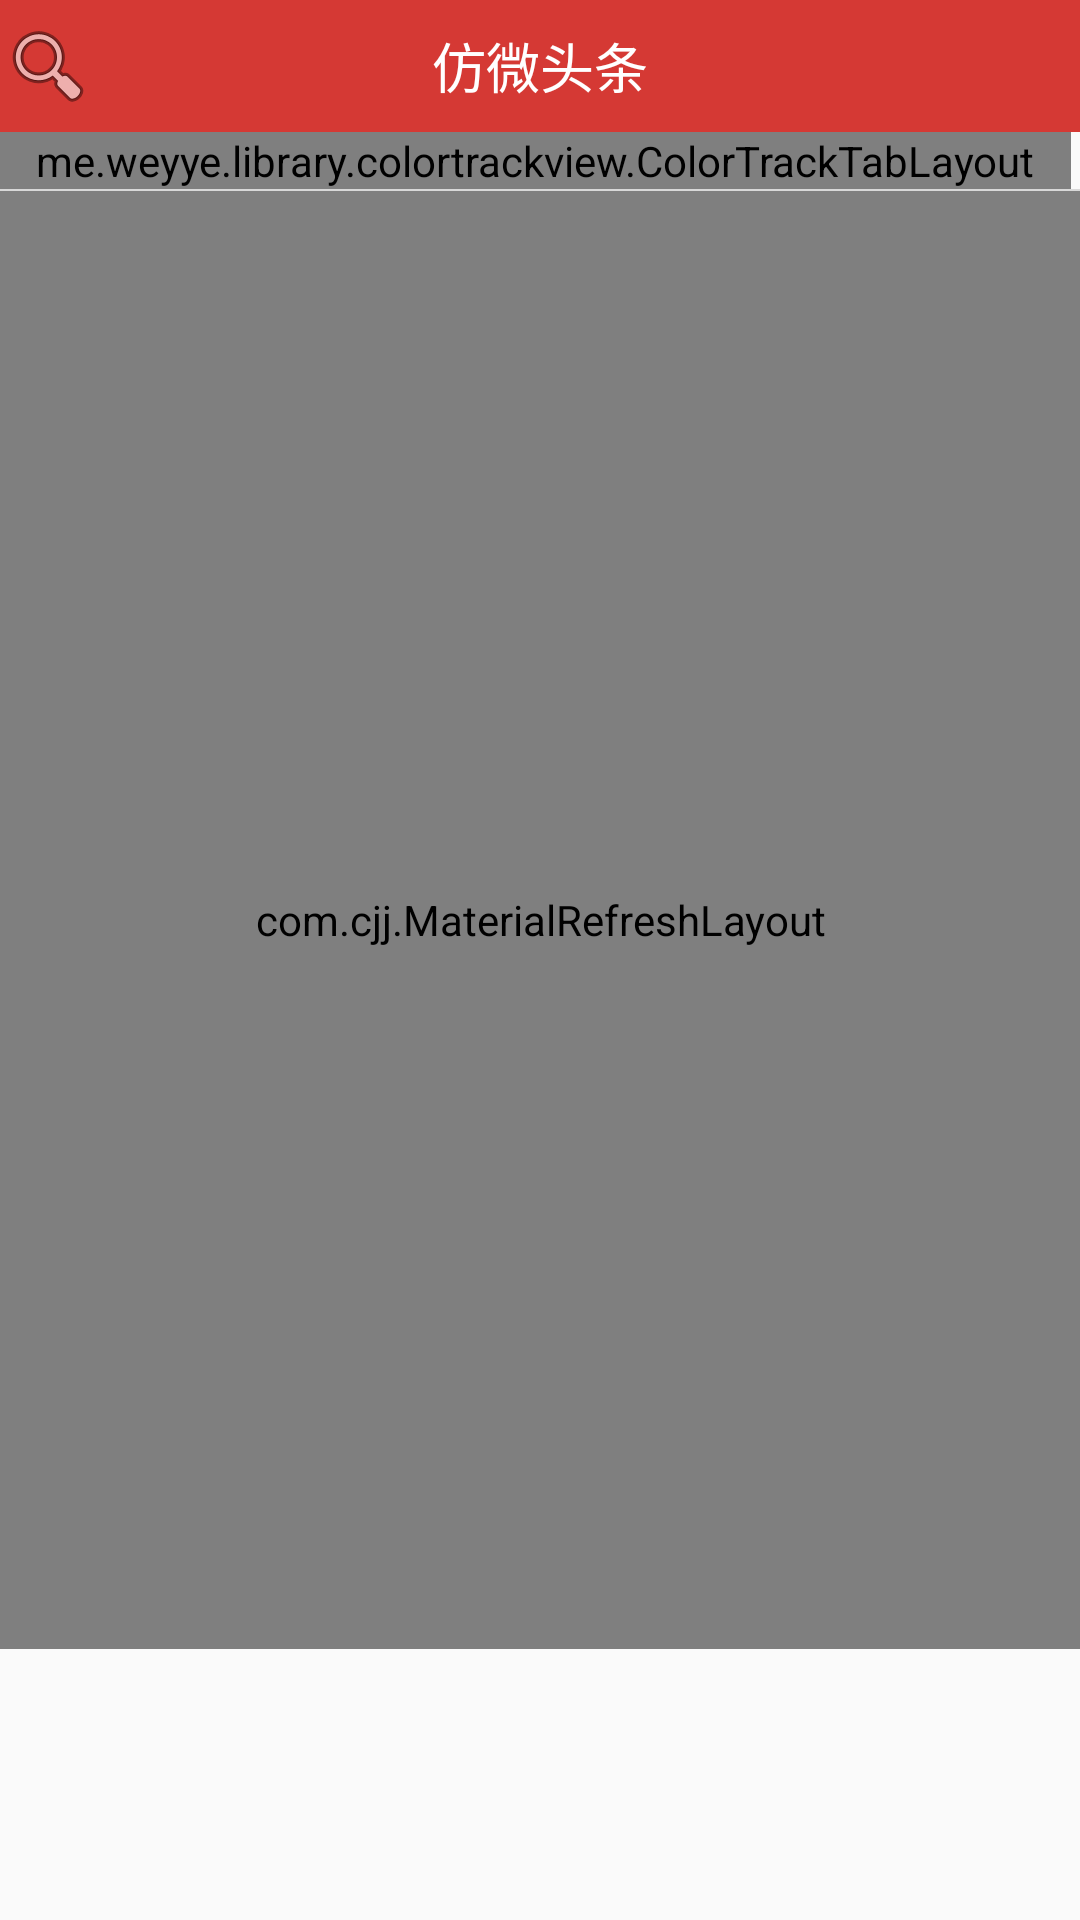

Where to tap for icons on this 1080x1920 app screen, as point (x, y):
search: point (47, 66)
